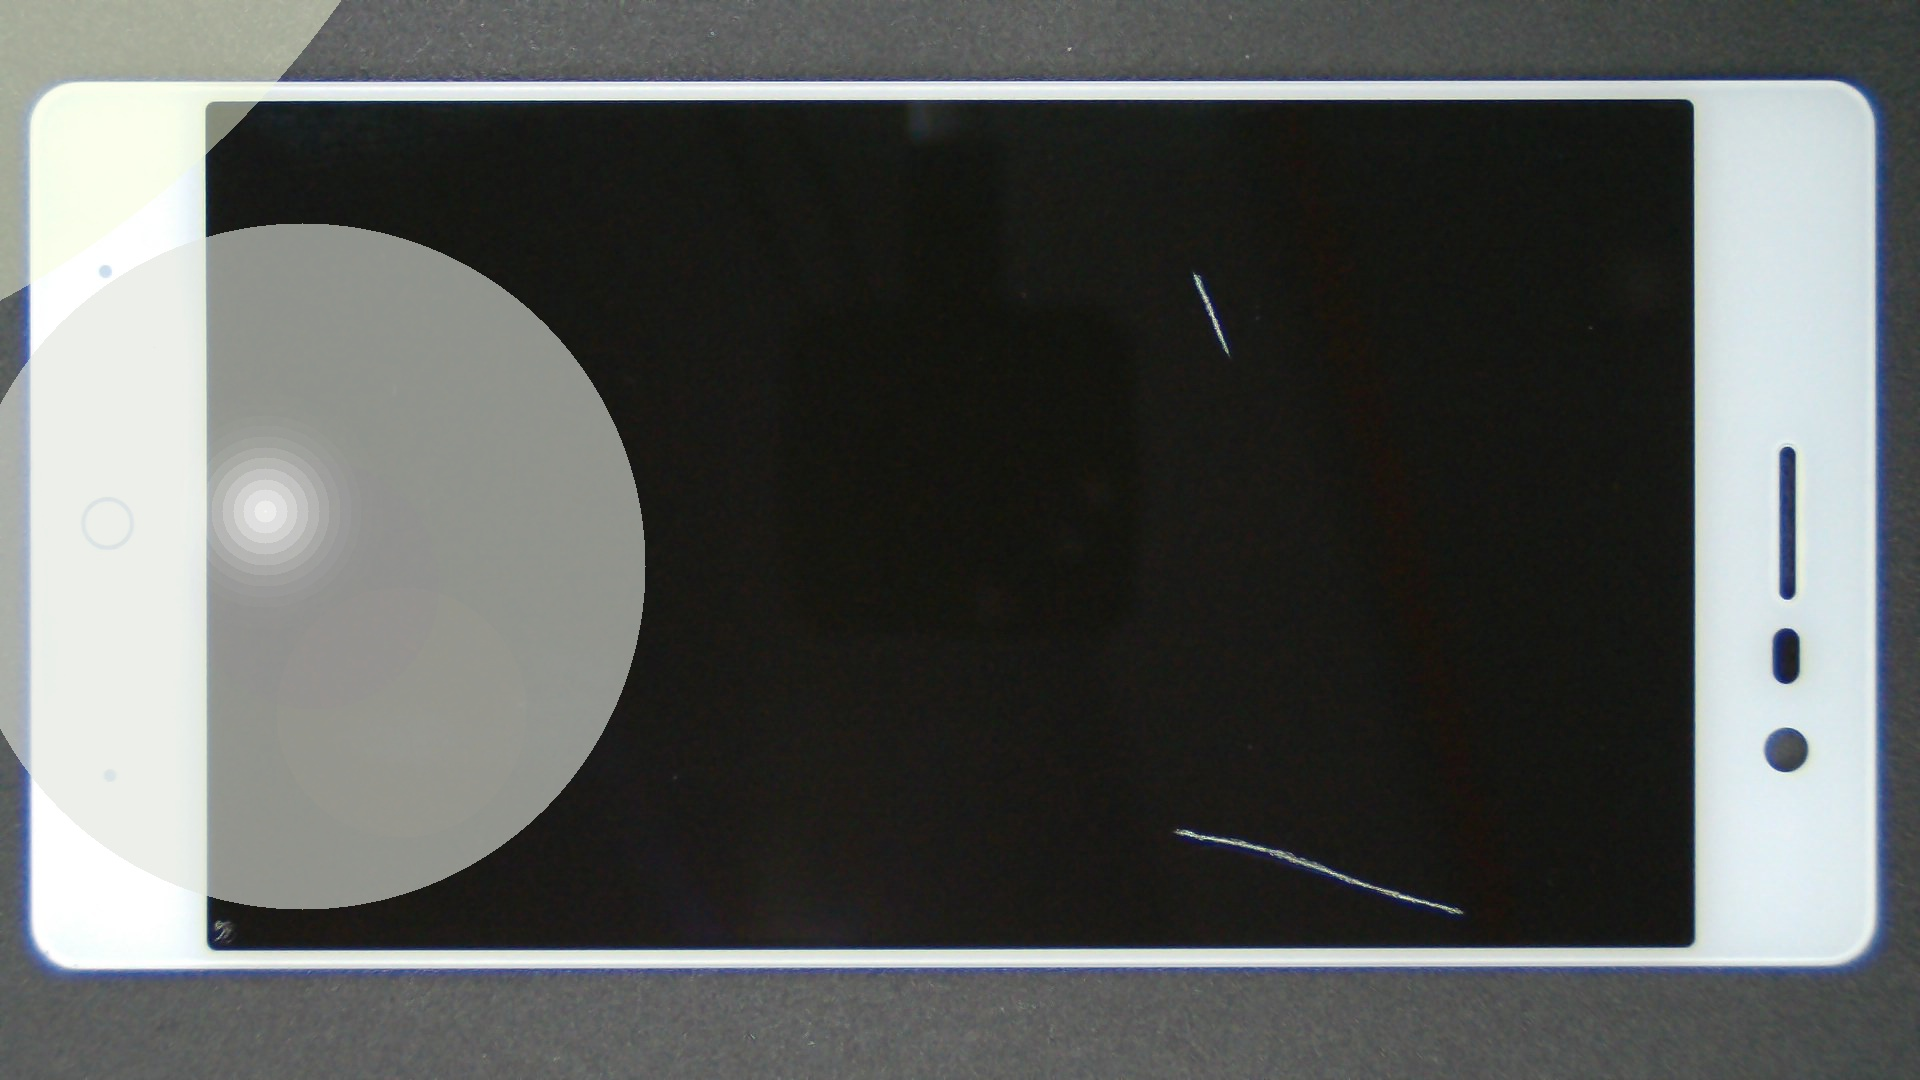oil: (589, 413, 1766, 1080), (596, 135, 1789, 406), (109, 458, 324, 1080)
